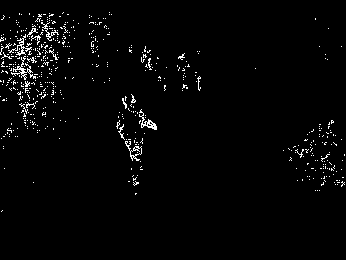person: (116, 93, 159, 197)
